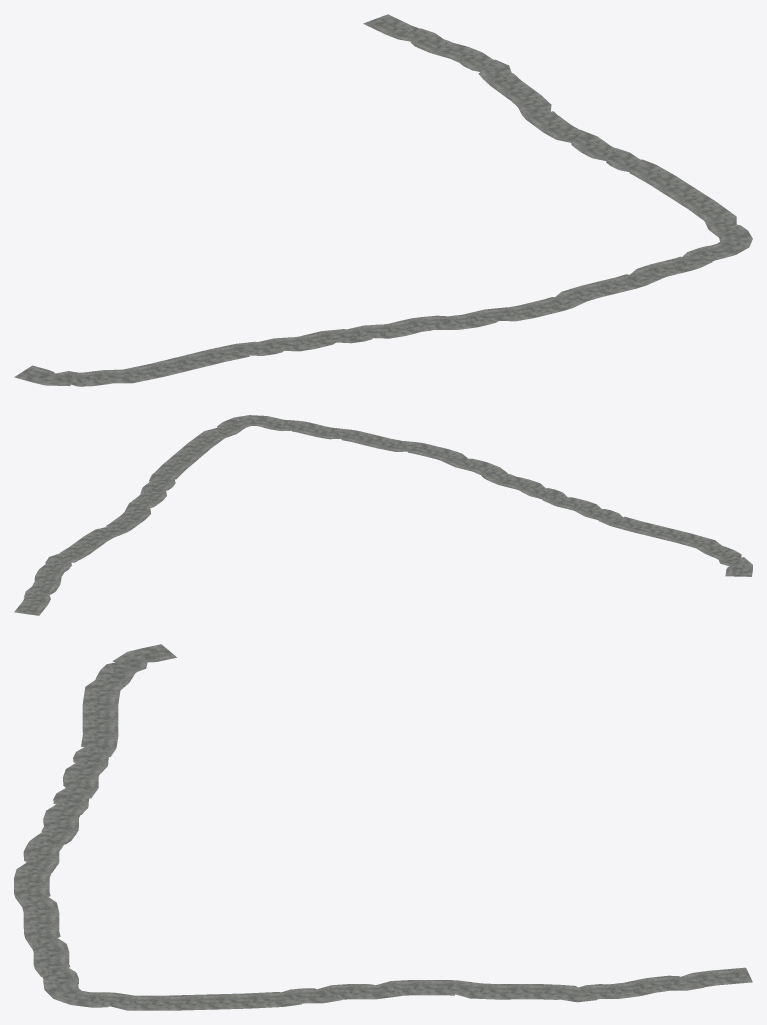
File: RD-ROAD-019.obj
3 views of the same model, one above another, from view 1: azimuth 30°, elevation 25°; view 2: azimuth 150°, elevation 25°; view 3: azimuth 270°, elevation 25° (orthographic). The views are drawn at different scales.
Visible parts, largest first — view 1: RD-ROAD-019; view 2: RD-ROAD-019; view 3: RD-ROAD-019.
Boxes of the visible parts, left/top/right/bottom form: RD-ROAD-019: left=14, top=14, right=752, bottom=386; RD-ROAD-019: left=14, top=415, right=752, bottom=615; RD-ROAD-019: left=14, top=644, right=752, bottom=1010.
Size of the model in its own units: 103 by 0.0555 by 88.09.
Materials: 1 (1 with a texture image).
